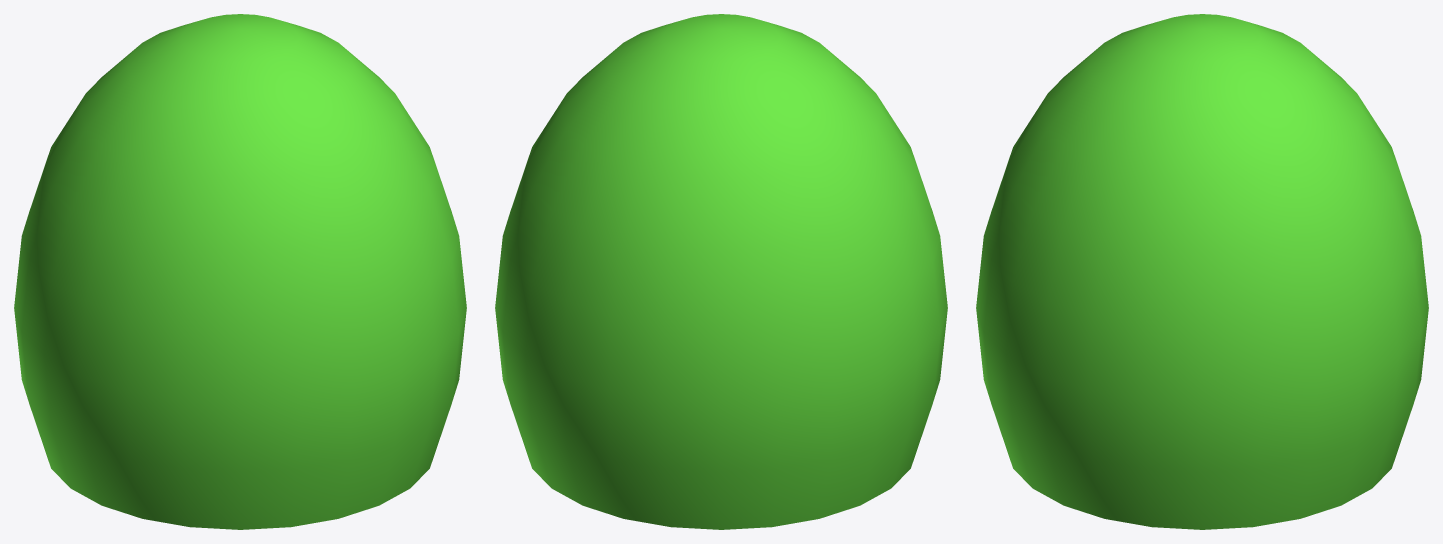
File: Bush_1.fbx
3 views of the same model, side by side, from view 1: azimuth 30°, elevation 25°; view 2: azimuth 150°, elevation 25°; view 3: azimuth 270°, elevation 25° (orthographic).
Visible parts, largest first — view 1: Bush_1; view 2: Bush_1; view 3: Bush_1.
Boxes of the visible parts, x1,y1,x2,y2 form: Bush_1: (14,14,466,529); Bush_1: (495,14,947,529); Bush_1: (976,14,1428,529).
Bounding box in the file's own units: 0.5562 × 0.5663 × 0.5562.
